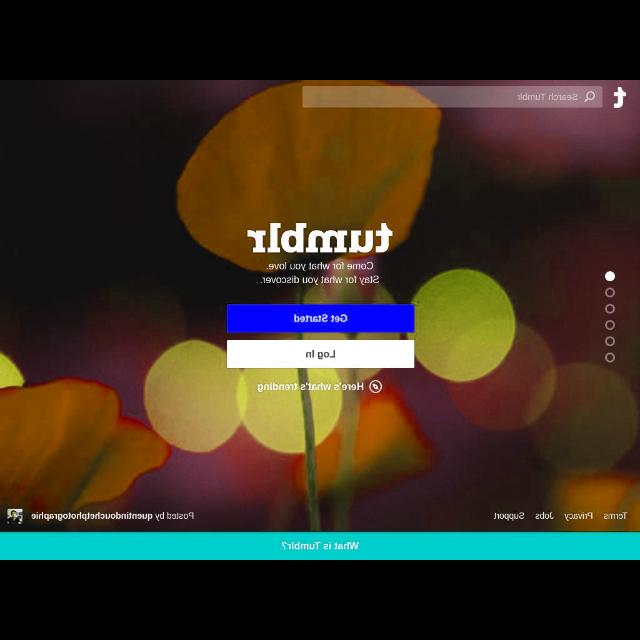icon: (368, 381, 382, 394), (584, 91, 596, 103)
image: (6, 509, 24, 525)
input: (302, 86, 604, 108)
pageindicator: (604, 270, 614, 364)
text: (245, 222, 392, 254), (260, 262, 378, 286), (31, 512, 195, 522), (256, 382, 364, 392), (281, 542, 359, 550), (293, 314, 347, 324), (516, 93, 578, 101), (612, 86, 628, 110), (493, 512, 525, 522), (306, 350, 336, 360), (564, 512, 594, 522), (603, 512, 629, 520), (535, 512, 555, 520)
textbutton: (227, 339, 416, 368), (227, 304, 416, 332)
